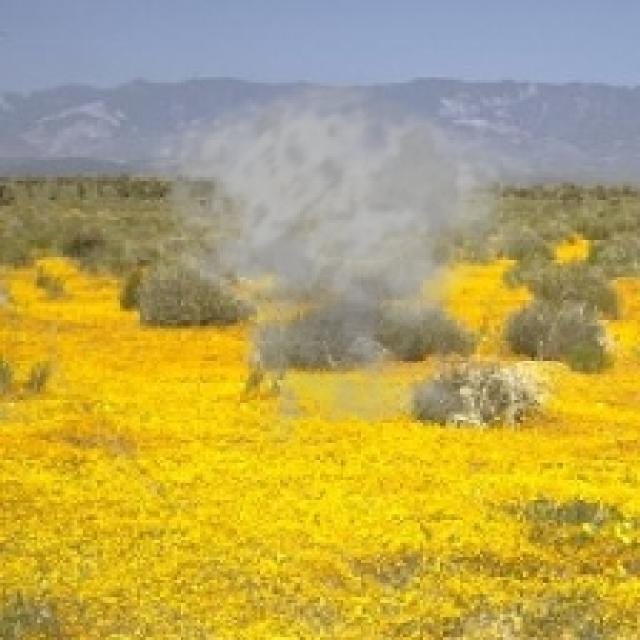smoke: (146, 77, 543, 460)
